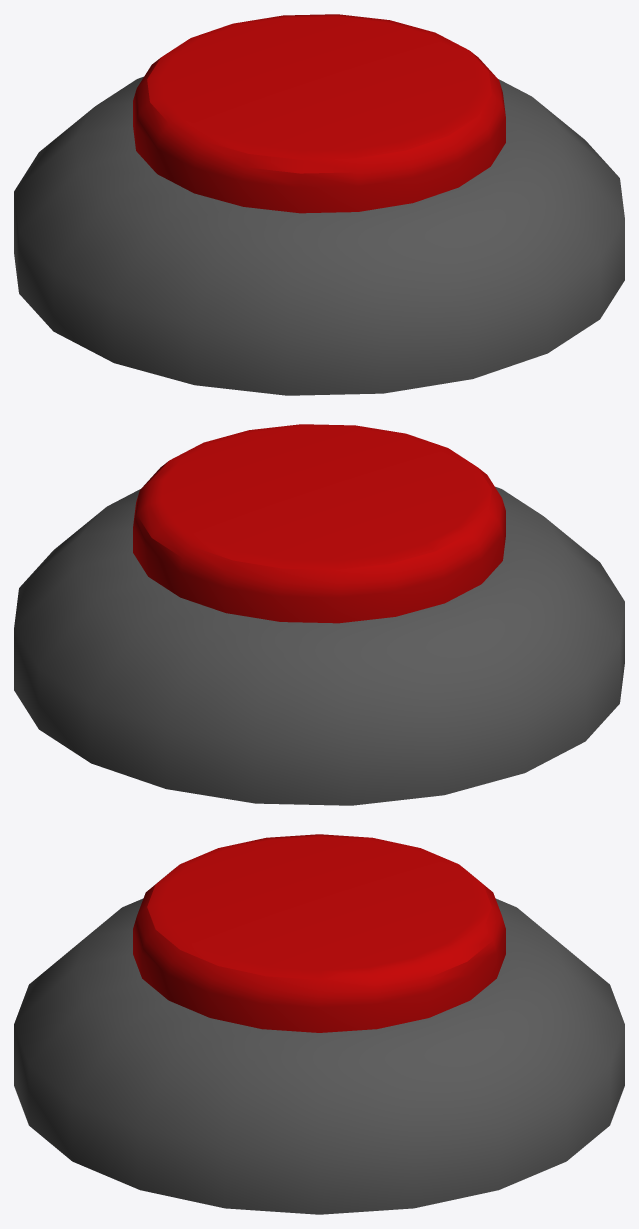
File: weeblMine.fbx
3 views of the same model, one above another, from view 1: azimuth 30°, elevation 25°; view 2: azimuth 150°, elevation 25°; view 3: azimuth 270°, elevation 25° (orthographic).
Visible parts, largest first — view 1: pCylinder1; view 2: pCylinder1; view 3: pCylinder1.
Part boxes in pixels (box(x1,y1,x2,y2)): pCylinder1: box(14, 14, 624, 395); pCylinder1: box(14, 424, 624, 805); pCylinder1: box(14, 834, 624, 1214).
Bounding box in the file's own units: 79.68 × 26.19 × 79.68.
